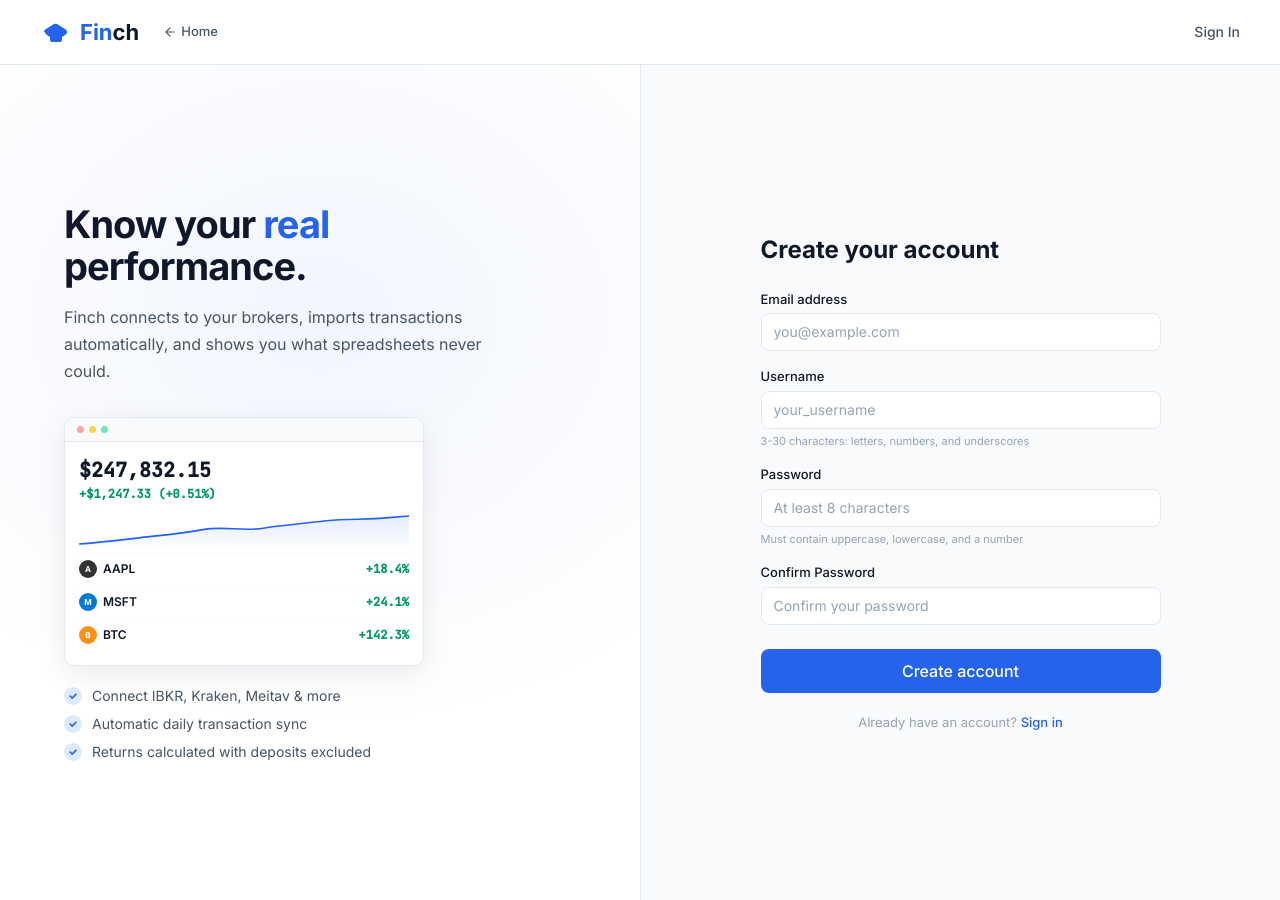
Test case: Register › shows multiple field-level errors simultaneously
The width and height of the screenshot is (1280, 900).
In the field labelled "Email address": {"x": 960, "y": 332} [760,313,1160,351], type "a@b.com"
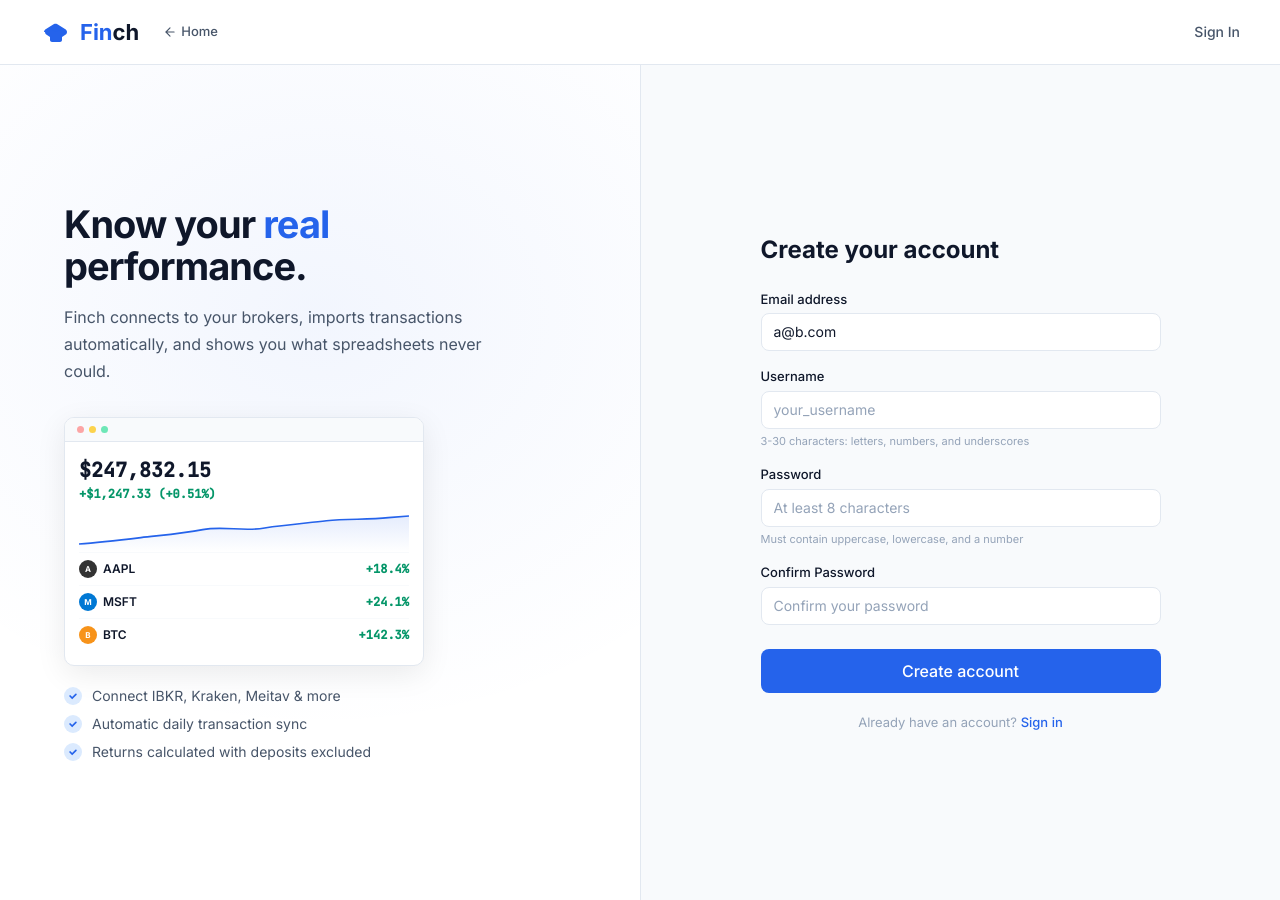
In the field labelled "Username": {"x": 960, "y": 410} [760,391,1160,429], type "user1"
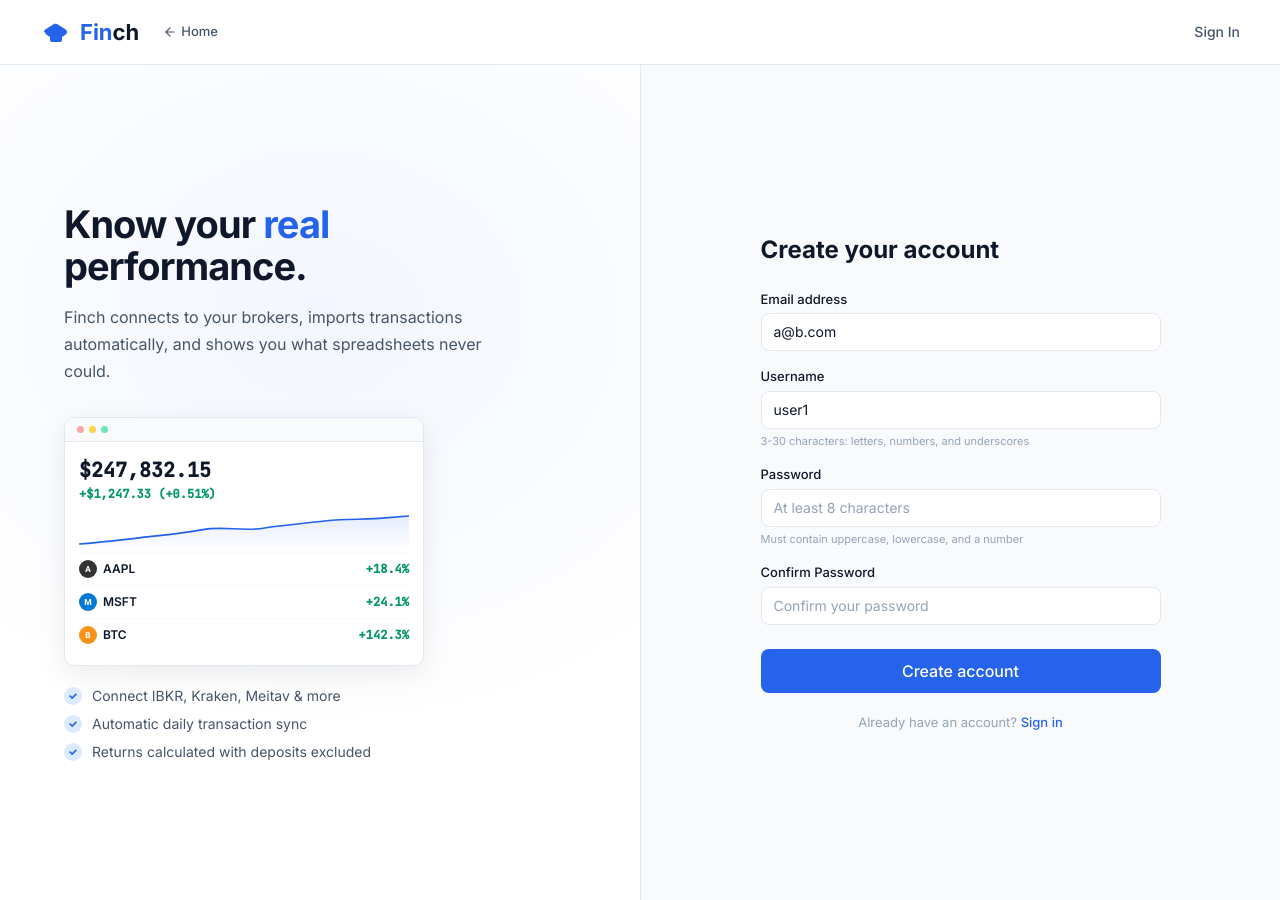
In the password field labelled "Password": {"x": 960, "y": 508} [760,489,1160,527], type "weakpass1"
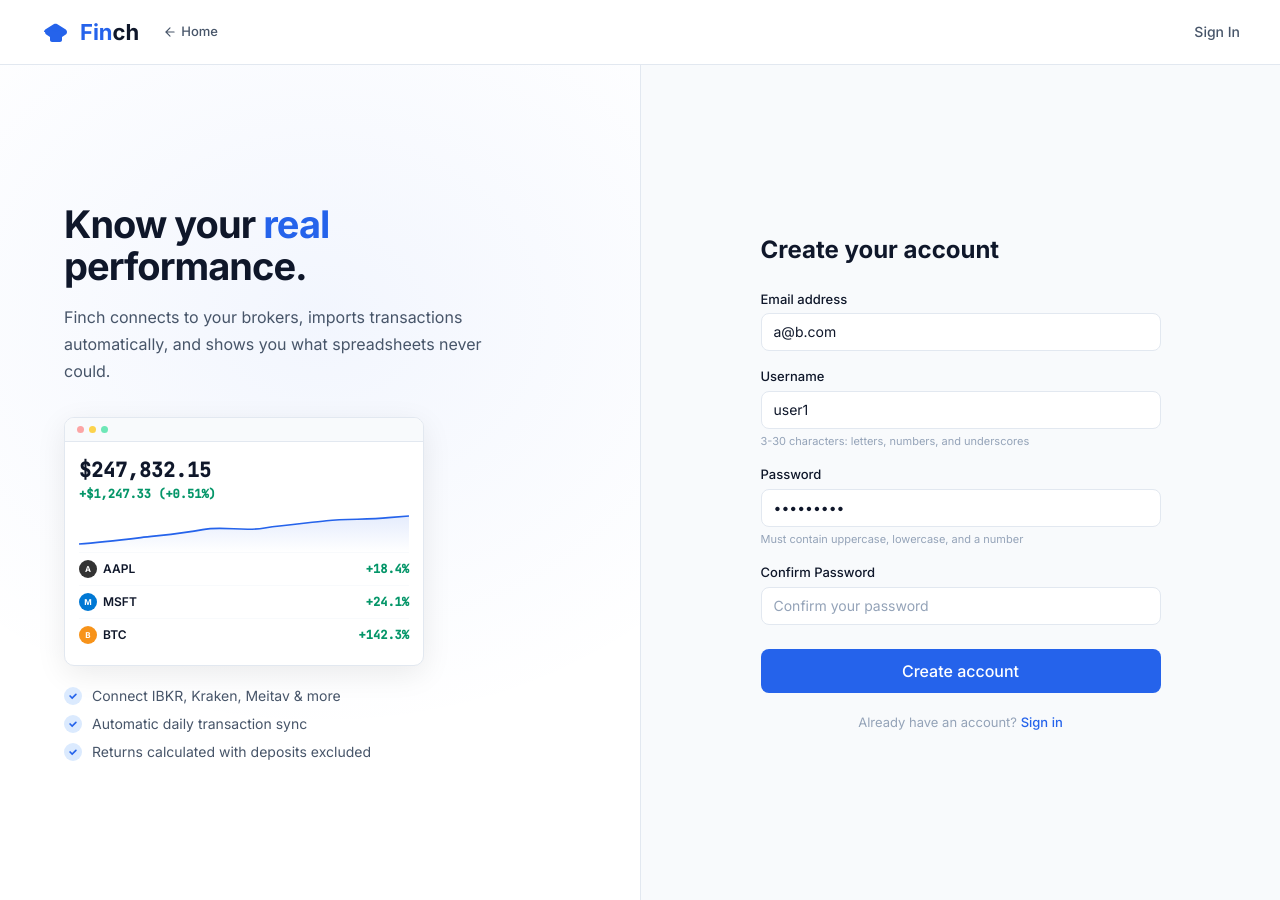
In the password field labelled "Confirm Password": {"x": 960, "y": 606} [760,587,1160,625], type "weakpass1"
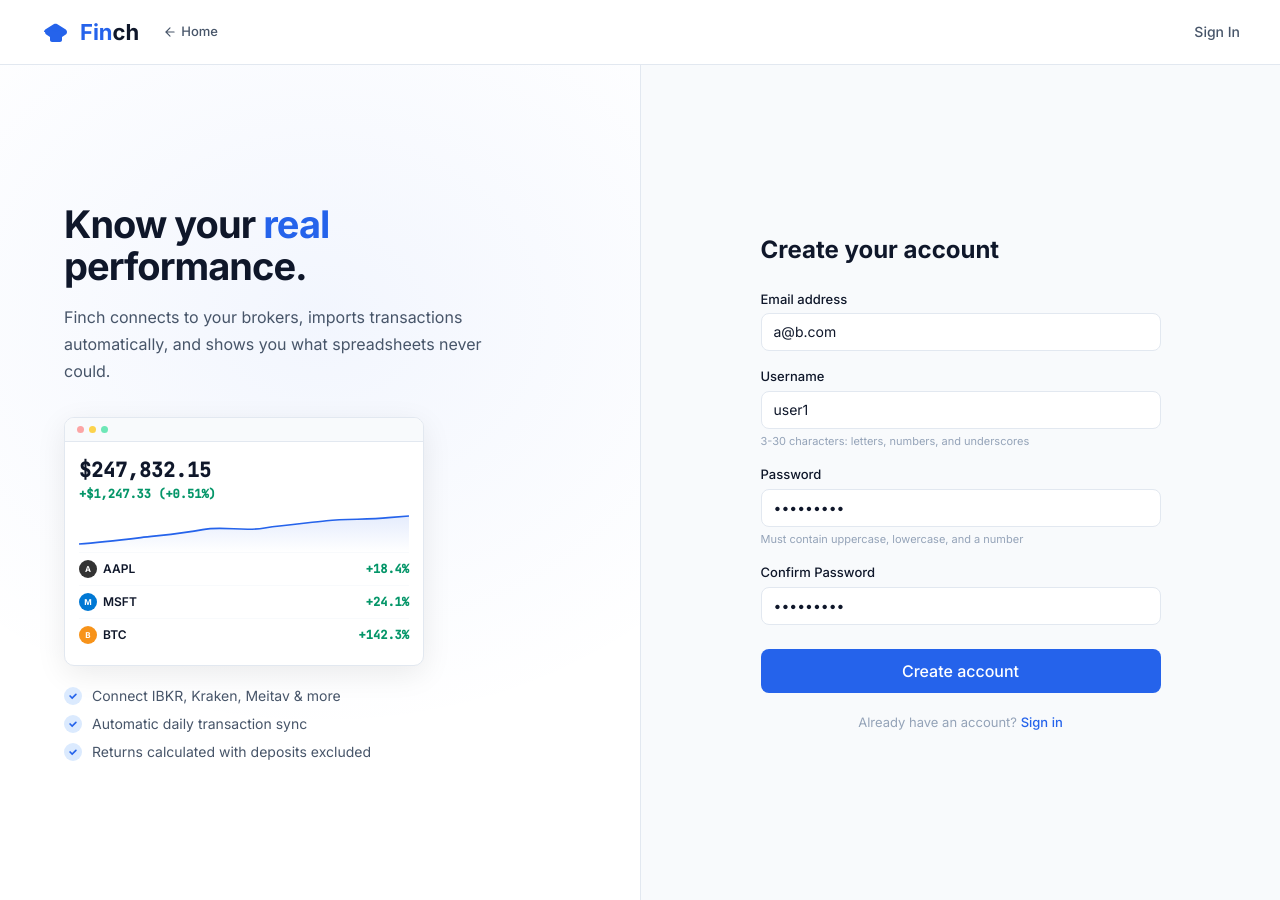
Click the button "Create account": {"x": 960, "y": 671} [760,649,1160,693]
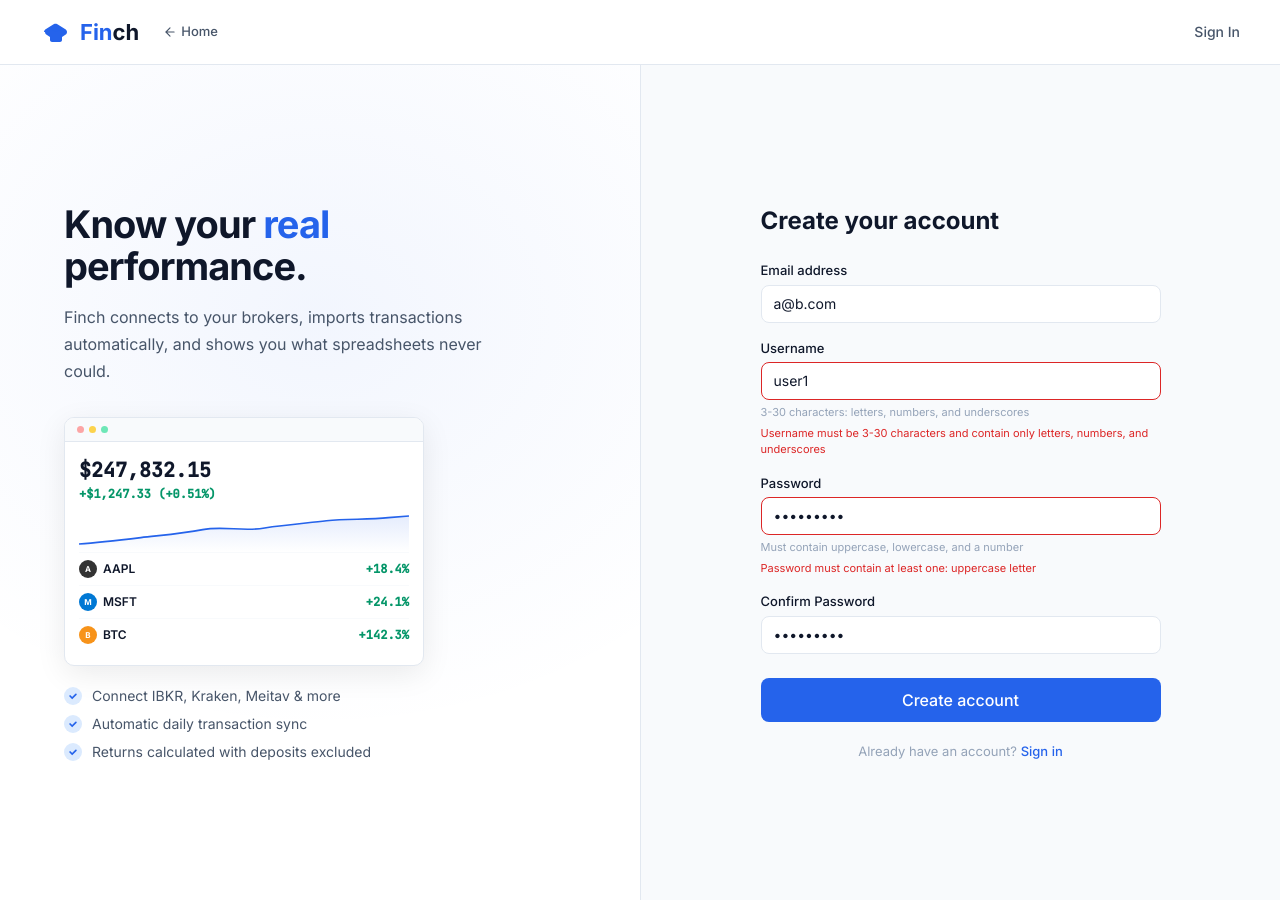
Result: the text "Password must contain at least one: uppercase letter" is shown at [760,560,1036,574]
Result: the text "Username must be 3-30 characters" is shown at [760,426,1148,456]
